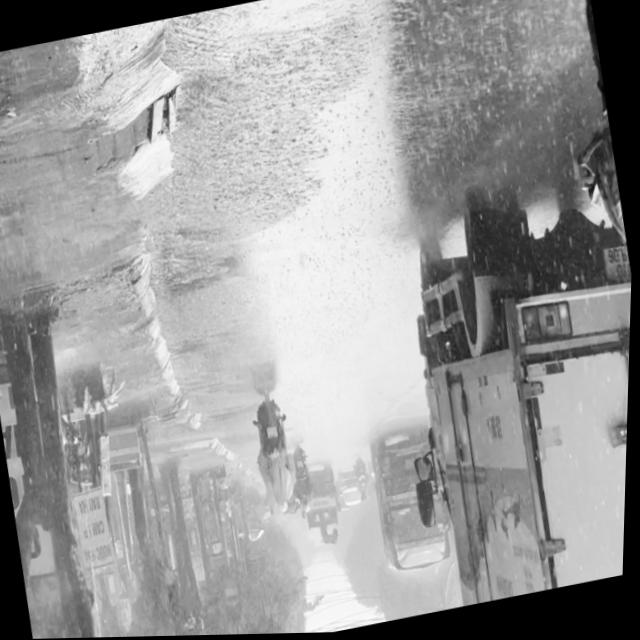licenseplate: (534, 0, 640, 434)
